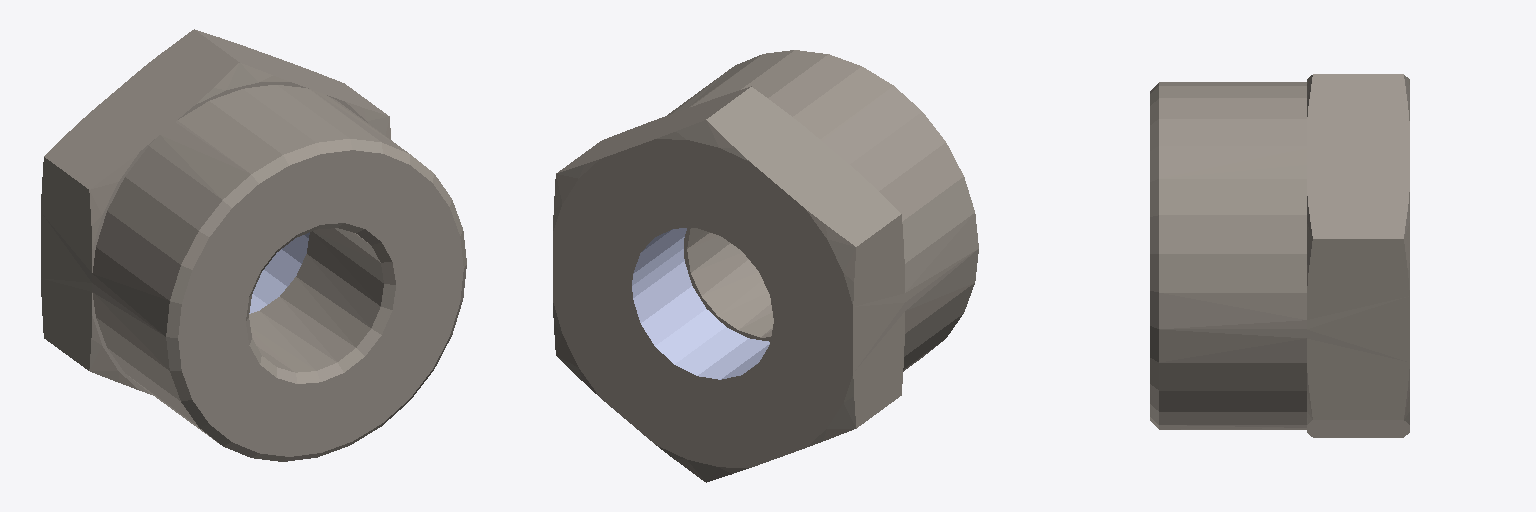
The picture shows the model from 3 angles: view 1: azimuth 30°, elevation 25°; view 2: azimuth 150°, elevation 25°; view 3: azimuth 270°, elevation 25°; orthographic projection.
Parts seen in each view (by area): view 1: gb__t_6172_2_2000_________________________m3_; view 2: gb__t_6172_2_2000_________________________m3_; view 3: gb__t_6172_2_2000_________________________m3_.
Part boxes in pixels (bbox=[...]): gb__t_6172_2_2000_________________________m3_: bbox=[41, 29, 466, 461]; gb__t_6172_2_2000_________________________m3_: bbox=[553, 50, 978, 482]; gb__t_6172_2_2000_________________________m3_: bbox=[1150, 74, 1409, 437].
Size of the model in its own units: 5.21 by 6.01 by 3.9.